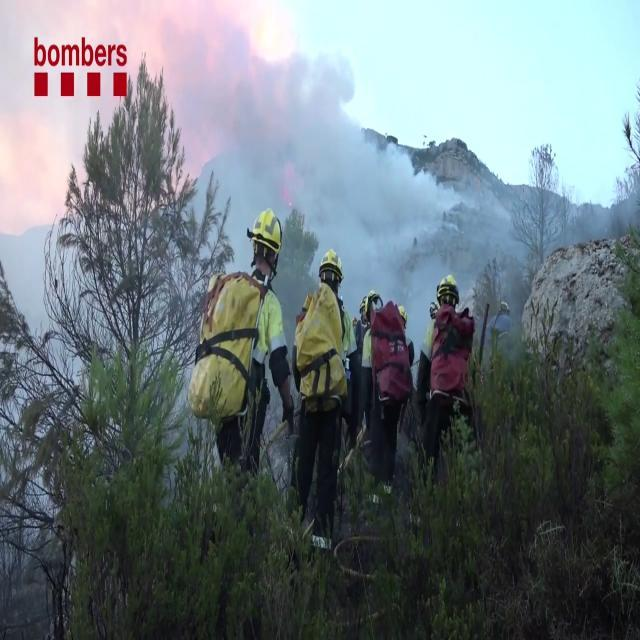Smoke: (166, 1, 482, 298)
